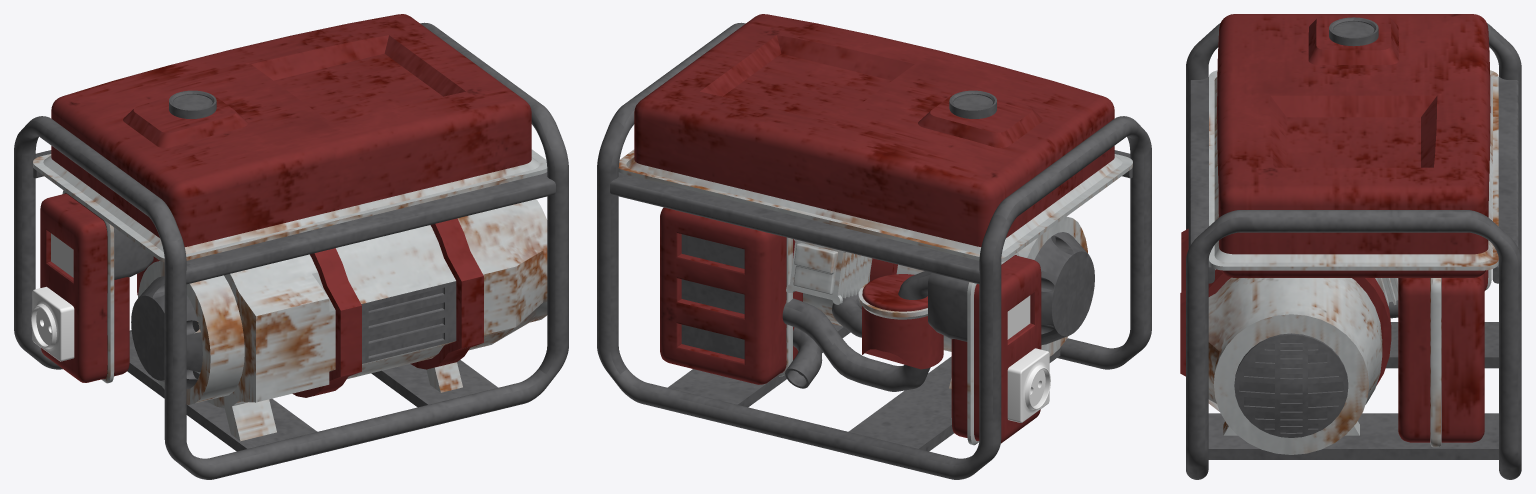
File: генератор 2.fbx
3 views of the same model, side by side, from view 1: azimuth 30°, elevation 25°; view 2: azimuth 150°, elevation 25°; view 3: azimuth 270°, elevation 25° (orthographic). The views are drawn at different scales.
Parts seen in each view (by area): view 1: Cylinder, Cube, Cylinder.001; view 2: Cylinder, Cube, Cylinder.001; view 3: Cylinder.
Boxes of the visible parts, left/top/right/bottom form: Cylinder: left=14, top=14, right=568, bottom=479; Cube: left=31, top=286, right=74, bottom=361; Cylinder.001: left=51, top=233, right=73, bottom=277; Cylinder: left=597, top=14, right=1151, bottom=479; Cube: left=1007, top=348, right=1050, bottom=422; Cylinder.001: left=1007, top=295, right=1030, bottom=339; Cylinder: left=1180, top=14, right=1521, bottom=479.
Bounding box in the file's own units: 82.68 × 58.66 × 56.54.
